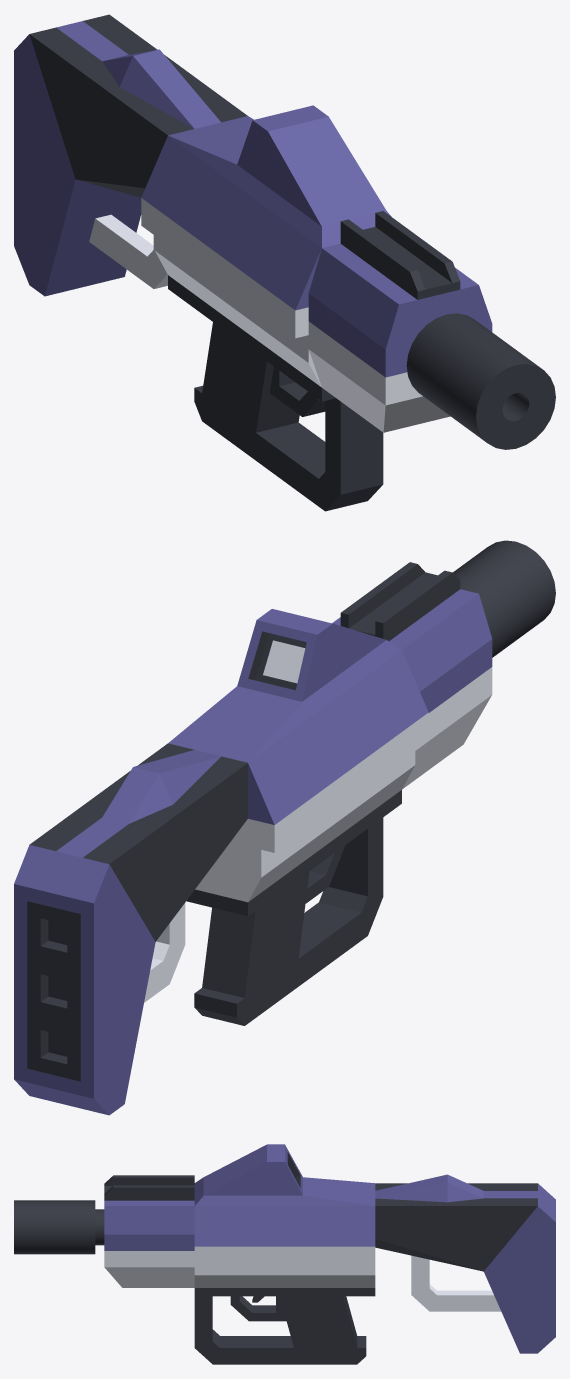
Rendered from Blaster1.fbx.
3 views of the same model, one above another, from view 1: azimuth 30°, elevation 25°; view 2: azimuth 150°, elevation 25°; view 3: azimuth 270°, elevation 25° (orthographic). The views are drawn at different scales.
Visible parts, largest first — view 1: largeBlaster_handleGuard, stock_assault, mediumBlaster_barrelSilencer, detailCounter, detailRail_front; view 2: stock_assault, largeBlaster_handleGuard, mediumBlaster_barrelSilencer, detailCounter, detailRail_front; view 3: largeBlaster_handleGuard, stock_assault, mediumBlaster_barrelSilencer, detailCounter, detailRail_front.
Part boxes in pixels (x1=…): largeBlaster_handleGuard: x1=141, y1=136, x2=383, y2=511; stock_assault: x1=14, y1=14, x2=247, y2=296; mediumBlaster_barrelSilencer: x1=308, y1=243, x2=555, y2=449; detailCounter: x1=168, y1=105, x2=391, y2=247; detailRail_front: x1=340, y1=211, x2=460, y2=299; stock_assault: x1=14, y1=743, x2=247, y2=1115; largeBlaster_handleGuard: x1=186, y1=650, x2=428, y2=1025; mediumBlaster_barrelSilencer: x1=332, y1=540, x2=555, y2=789; detailCounter: x1=168, y1=609, x2=401, y2=762; detailRail_front: x1=340, y1=562, x2=460, y2=640; largeBlaster_handleGuard: x1=194, y1=1206, x2=375, y2=1364; stock_assault: x1=375, y1=1174, x2=555, y2=1353; mediumBlaster_barrelSilencer: x1=14, y1=1200, x2=194, y2=1287; detailCounter: x1=194, y1=1144, x2=375, y2=1205; detailRail_front: x1=104, y1=1175, x2=194, y2=1200.
Size of the model in its own units: 5 by 12.5 by 30.
